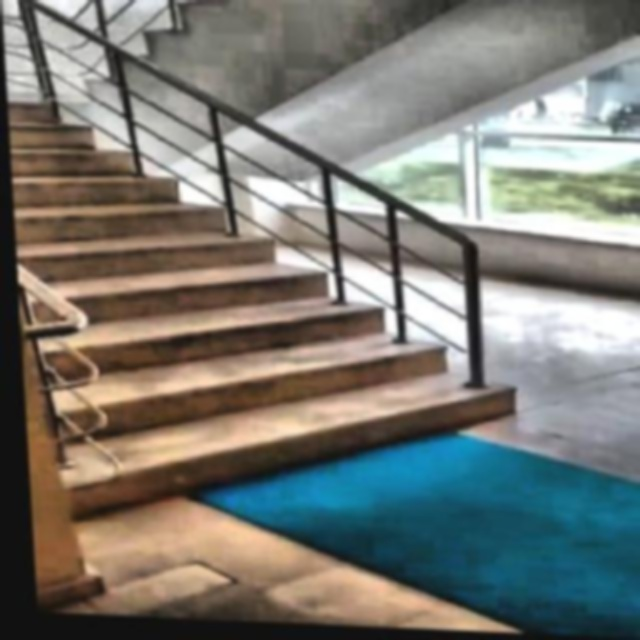stair: (6, 71, 566, 540)
